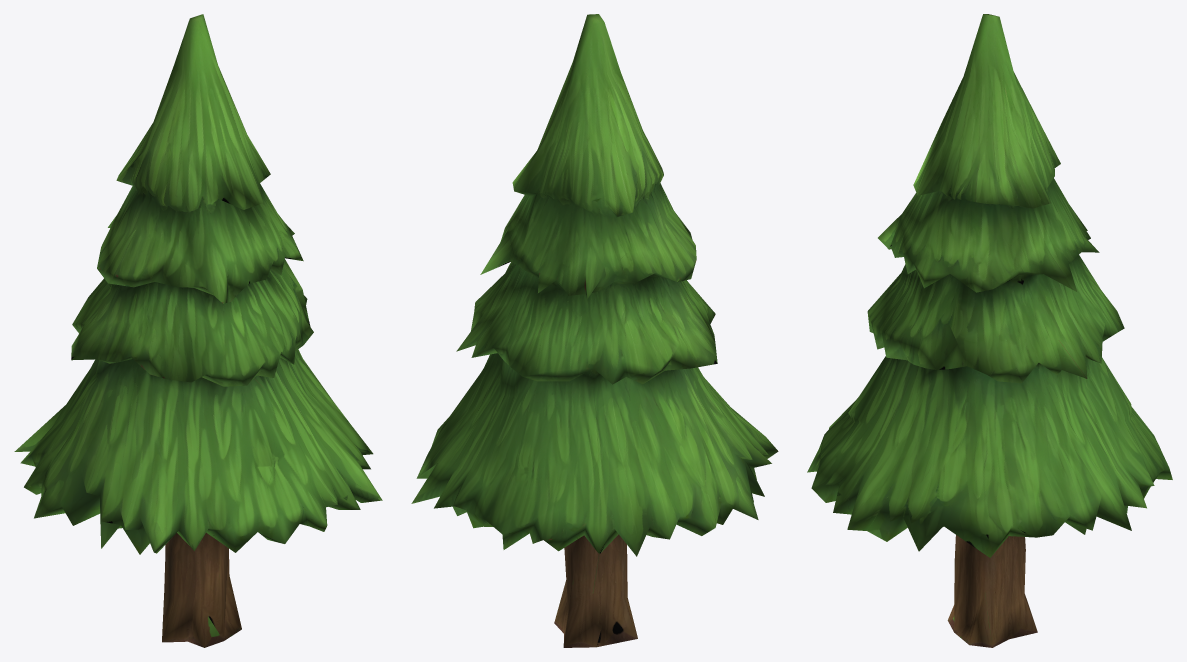
The model's file is TreeOriginal.fbx.
3 views of the same model, side by side, from view 1: azimuth 30°, elevation 25°; view 2: azimuth 150°, elevation 25°; view 3: azimuth 270°, elevation 25° (orthographic).
Visible parts, largest first — view 1: Mesh1.0; view 2: Mesh1.0; view 3: Mesh1.0.
Part boxes in pixels (left/top/right/bottom): Mesh1.0: left=14, top=14, right=382, bottom=647; Mesh1.0: left=411, top=14, right=778, bottom=647; Mesh1.0: left=807, top=14, right=1172, bottom=647.
Size of the model in its own units: 104 by 191 by 103.
1 material, 1 textured.
